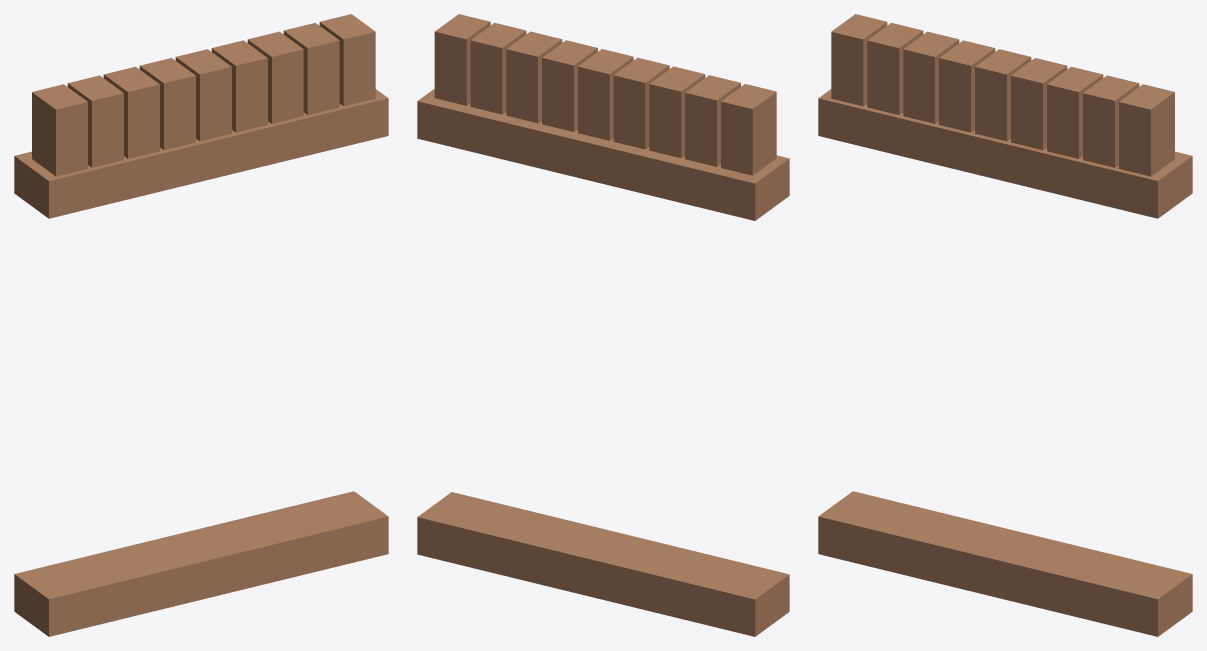
The picture shows the model from 3 angles, left to right: view 1: azimuth 30°, elevation 25°; view 2: azimuth 150°, elevation 25°; view 3: azimuth 330°, elevation 25°; orthographic projection.
Parts seen in each view (by area): view 1: QH-A0049_V02_geometry; view 2: QH-A0049_V02_geometry; view 3: QH-A0049_V02_geometry.
Part boxes in pixels (x1,y1,x2,y2): QH-A0049_V02_geometry: (14,14,388,636); QH-A0049_V02_geometry: (417,14,789,636); QH-A0049_V02_geometry: (818,14,1192,636).
Bounding box in the file's own units: 1.7 × 2.5 × 0.3.
